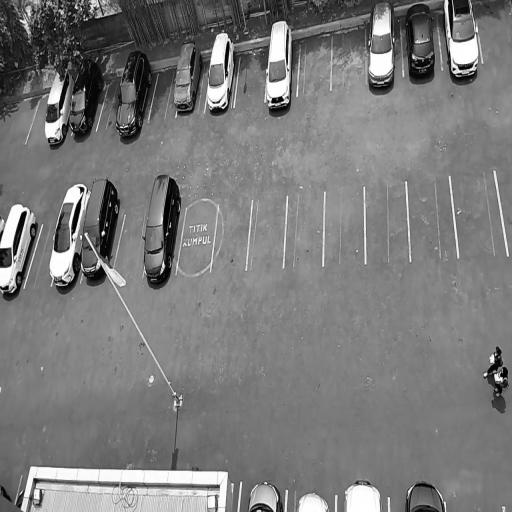Car: (44, 179, 91, 297), (143, 170, 185, 292), (78, 178, 124, 284), (0, 203, 41, 300), (114, 48, 155, 141), (439, 0, 481, 86), (205, 30, 239, 123), (68, 55, 106, 138), (264, 20, 295, 118), (367, 0, 397, 91), (44, 62, 75, 150), (173, 36, 205, 115), (403, 475, 448, 512), (342, 478, 384, 512), (246, 480, 282, 512), (295, 491, 330, 512), (0, 210, 4, 248)
Space Available: (452, 171, 507, 257), (407, 177, 458, 261), (365, 182, 410, 264), (324, 188, 366, 265), (211, 199, 253, 272), (284, 191, 324, 267), (245, 197, 287, 268), (176, 204, 218, 273), (330, 23, 366, 93), (475, 0, 512, 62), (298, 34, 332, 98), (24, 222, 57, 287), (113, 213, 146, 275), (234, 48, 268, 106), (149, 65, 177, 119), (24, 89, 51, 145), (96, 76, 123, 129), (496, 170, 511, 256)
